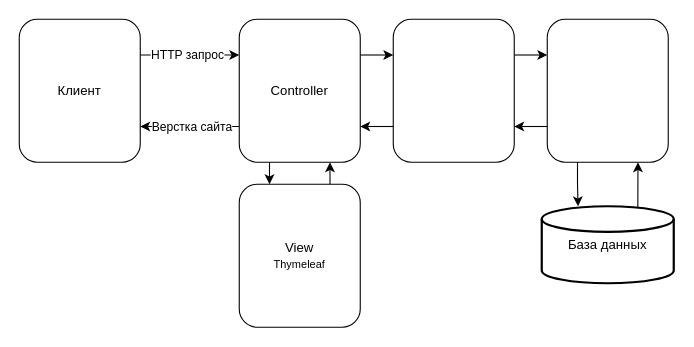
Image size: 694x347. Some labels were removed from this diagram. The centre of each missing label's shape, as x and y in pixels:
Repository: (x=607, y=90)
Service: (x=453, y=90)
